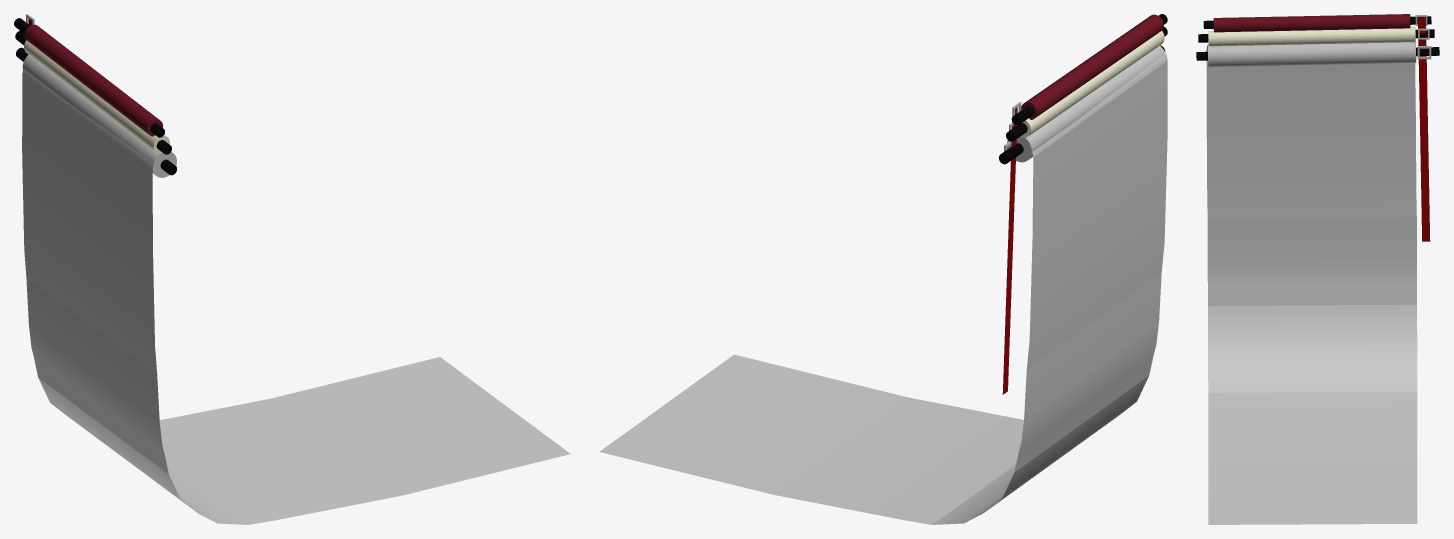
Rendered from fundo infinito (ctrl j).fbx.
The picture shows the model from 3 angles, left to right: view 1: azimuth 30°, elevation 25°; view 2: azimuth 150°, elevation 25°; view 3: azimuth 270°, elevation 25°; orthographic projection. The views are drawn at different scales.
Visible parts, largest first — view 1: rolo branco; view 2: rolo branco; view 3: rolo branco.
Part boxes in pixels (box(x1,y1,x2,y2)): rolo branco: box(14, 14, 570, 524); rolo branco: box(599, 14, 1167, 524); rolo branco: box(1196, 14, 1439, 524).
Bounding box in the file's own units: 21.22 × 21.21 × 13.31.
